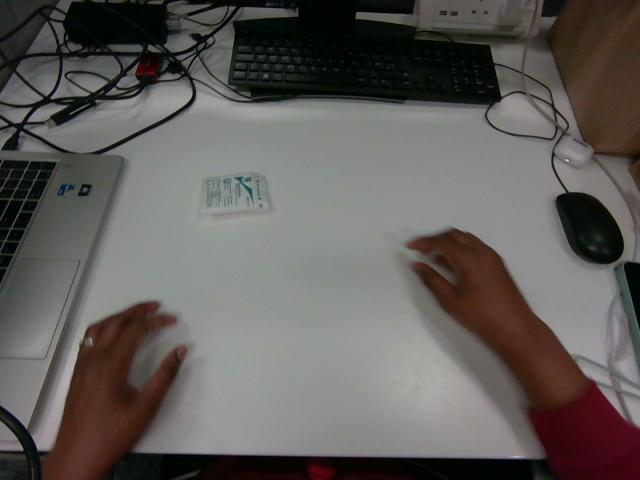gauze: (199, 172, 269, 218)
